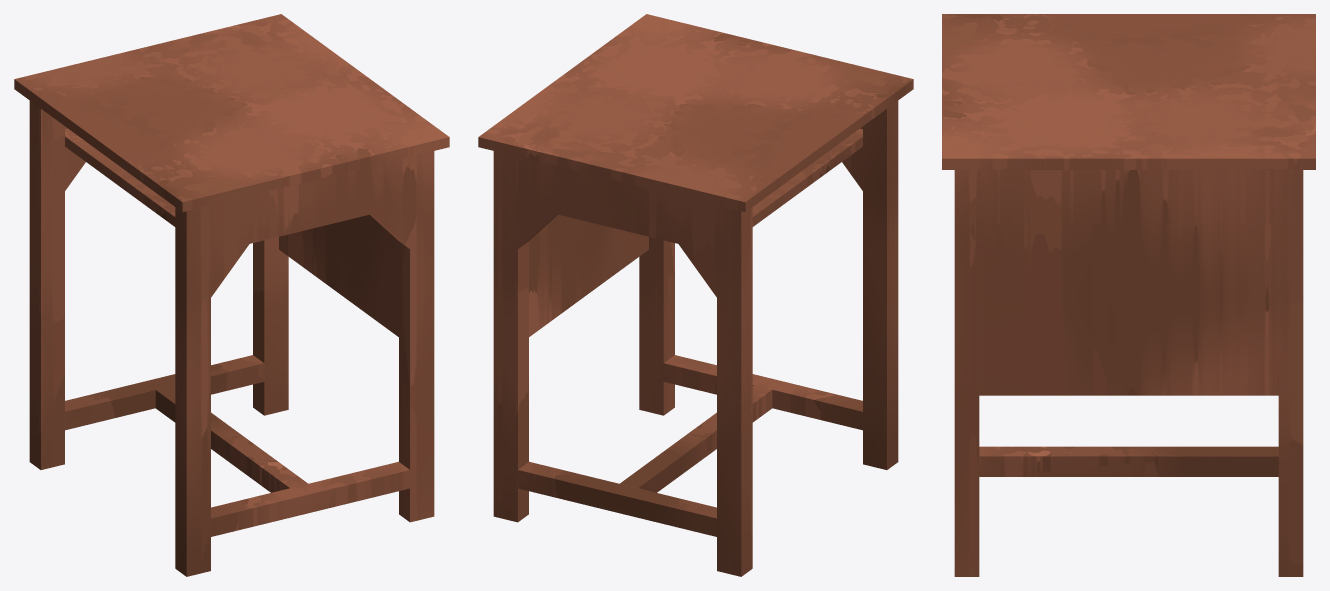
The model's file is meja.fbx.
3 renders of one model, left to right at view 1: azimuth 30°, elevation 25°; view 2: azimuth 150°, elevation 25°; view 3: azimuth 270°, elevation 25°, orthographic. The views are drawn at different scales.
Parts seen in each view (by area): view 1: Cube.009; view 2: Cube.009; view 3: Cube.009.
Boxes of the visible parts, x1=… form: Cube.009: x1=14, y1=14, x2=449, y2=576; Cube.009: x1=478, y1=14, x2=913, y2=576; Cube.009: x1=942, y1=14, x2=1315, y2=576.
Bounding box in the file's own units: 275 × 375 × 300.
